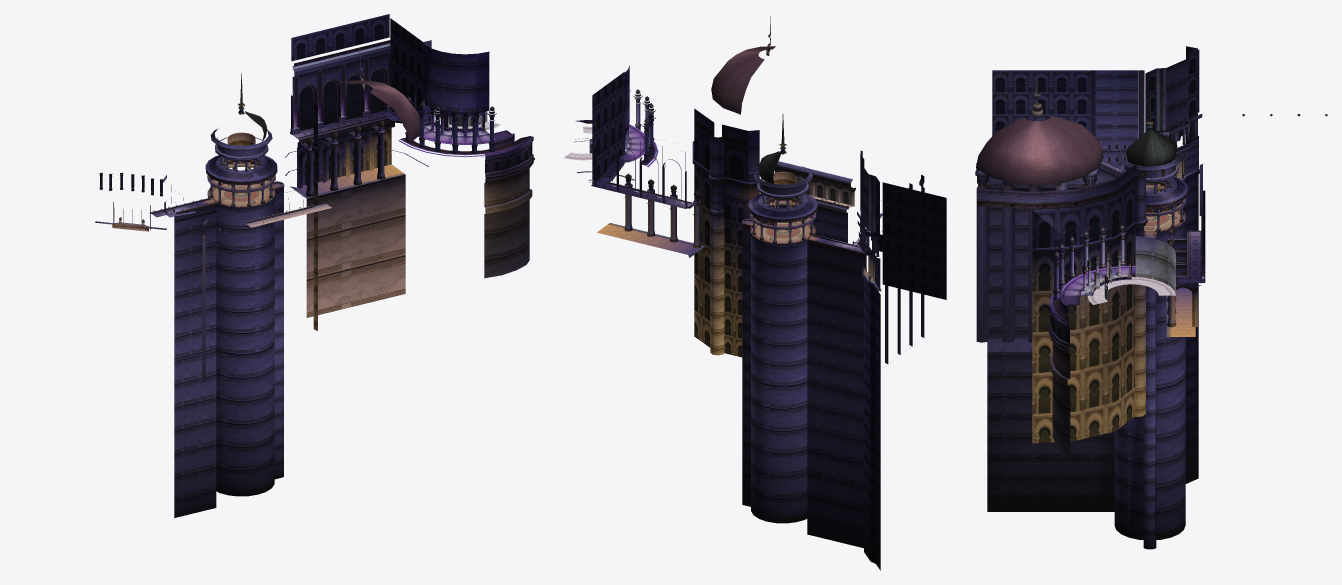
File: NPAct1Tower.gltf
The picture shows the model from 3 angles, left to right: view 1: azimuth 30°, elevation 25°; view 2: azimuth 150°, elevation 25°; view 3: azimuth 270°, elevation 25°; orthographic projection. The views are drawn at different scales.
Parts seen in each view (by area): view 1: stg070_o09_Mesh_0036, stg070_o05_Mesh_0056, stg070_o04_Mesh_0136, stg070_o04_Mesh_0144, stg070_o04_Mesh_0113, stg070_o09_Mesh_0031, stg070_o04_Mesh_0206, stg070_o04_Mesh_0209, stg070_o04_Mesh_0208, stg070_o04_Mesh_0207, stg070_o04_Mesh_0097, stg070_o04_Mesh_0015 (+9 smaller); view 2: stg070_o05_Mesh_0056, stg070_o09_Mesh_0036, stg070_o13_Mesh_0016, stg070_o05_Mesh_0068, stg070_o09_Mesh_0053, stg070_o04_Mesh_0203, stg070_o09_Mesh_0027, stg070_o04_Mesh_0209, stg070_o09_Mesh_0031, stg070_o04_Mesh_0015, stg070_o09_Mesh_0028, stg070_o04_Mesh_0023 (+8 smaller); view 3: stg070_o04_Mesh_0203, stg070_o05_Mesh_0058, stg070_o09_Mesh_0036, stg070_o04_Mesh_0015, stg070_o05_Mesh_0093, stg070_o05_Mesh_0088, stg070_o05_Mesh_0059, stg070_o09_Mesh_0031, stg070_o05_Mesh_0068, stg070_o04_Mesh_0071, stg070_o09_Mesh_0027, stg070_o04_Mesh_0144 (+13 smaller).
Boxes of the visible parts, x1,y1,x2,y2 form: stg070_o09_Mesh_0036: (216, 199, 274, 496); stg070_o05_Mesh_0056: (174, 204, 216, 517); stg070_o04_Mesh_0136: (298, 117, 405, 317); stg070_o04_Mesh_0144: (484, 158, 534, 278); stg070_o04_Mesh_0113: (423, 44, 514, 148); stg070_o09_Mesh_0031: (274, 187, 283, 479); stg070_o04_Mesh_0206: (291, 14, 389, 61); stg070_o04_Mesh_0209: (390, 18, 423, 116); stg070_o04_Mesh_0208: (297, 127, 391, 187); stg070_o04_Mesh_0207: (300, 70, 383, 130); stg070_o04_Mesh_0097: (398, 136, 533, 214); stg070_o04_Mesh_0015: (340, 80, 421, 143); stg070_o05_Mesh_0056: (807, 241, 866, 548); stg070_o09_Mesh_0036: (751, 236, 807, 523); stg070_o13_Mesh_0016: (882, 182, 946, 299); stg070_o05_Mesh_0068: (864, 278, 880, 570); stg070_o09_Mesh_0053: (723, 141, 759, 357); stg070_o04_Mesh_0203: (694, 125, 711, 347); stg070_o09_Mesh_0027: (710, 135, 724, 355); stg070_o04_Mesh_0209: (592, 72, 624, 184); stg070_o09_Mesh_0031: (742, 225, 750, 506); stg070_o04_Mesh_0015: (711, 46, 775, 114); stg070_o09_Mesh_0028: (771, 199, 847, 242); stg070_o04_Mesh_0023: (597, 224, 696, 254); stg070_o04_Mesh_0203: (1032, 183, 1135, 443); stg070_o05_Mesh_0058: (987, 169, 1117, 511); stg070_o09_Mesh_0036: (1114, 223, 1185, 539); stg070_o04_Mesh_0015: (976, 115, 1103, 185); stg070_o05_Mesh_0093: (992, 70, 1089, 135); stg070_o05_Mesh_0088: (976, 186, 1082, 342); stg070_o05_Mesh_0059: (1096, 70, 1137, 168); stg070_o09_Mesh_0031: (1143, 286, 1156, 549); stg070_o05_Mesh_0068: (1183, 174, 1198, 483); stg070_o04_Mesh_0071: (977, 164, 1136, 253); stg070_o09_Mesh_0027: (1135, 173, 1145, 416); stg070_o04_Mesh_0144: (1047, 328, 1070, 454).
Bounding box in the file's own units: 298 × 303 × 191.
20 materials, 19 textured.
